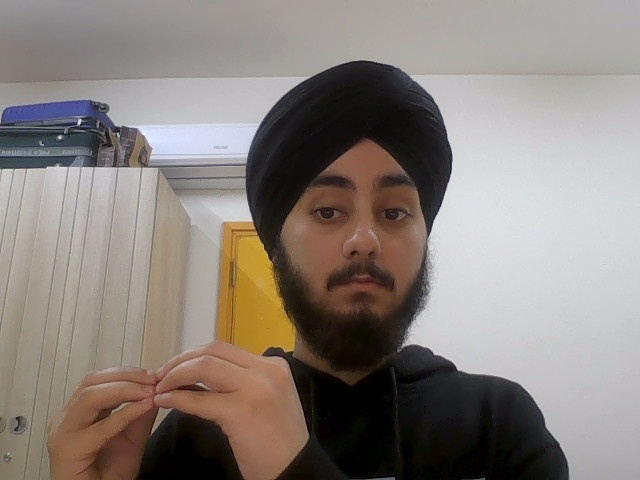More: (41, 334, 311, 480)
